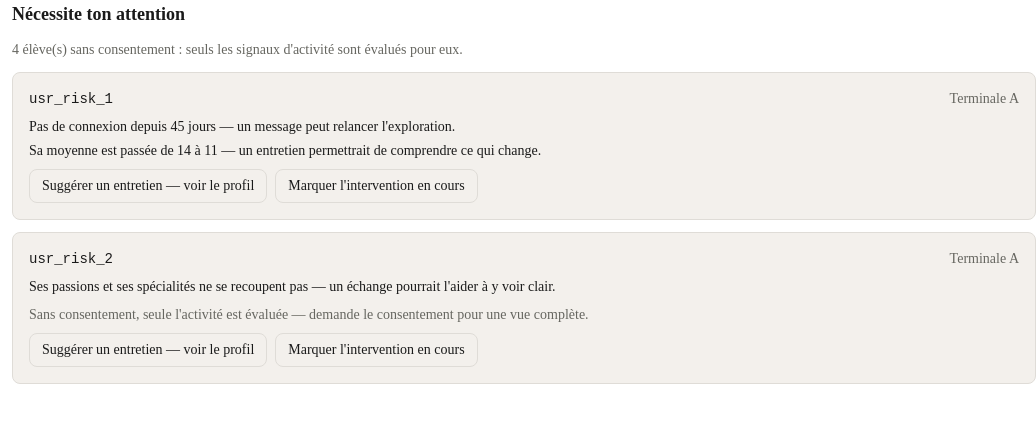
Test: AtRiskPanel › moves a student under 'Intervention en cours' on mark
Click the button "Marquer l'intervention en cours" below "usr_risk_1" at (376, 186), box [275, 169, 478, 203]
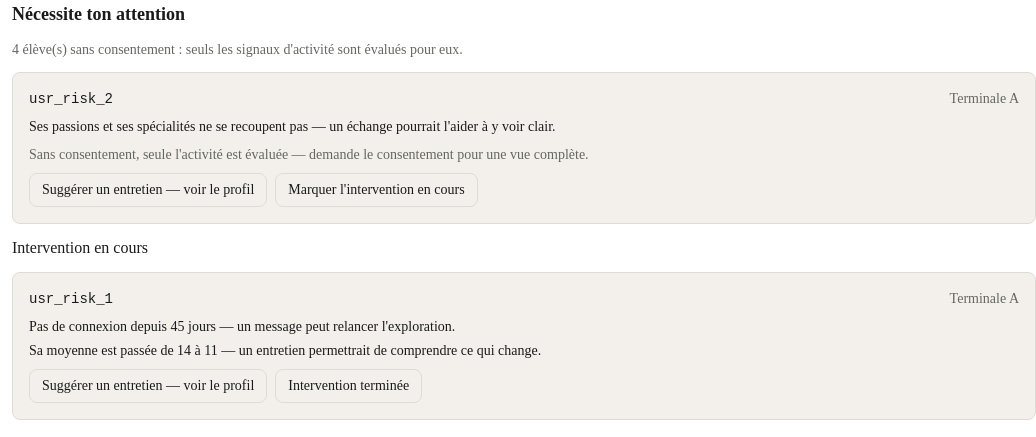
Expected: the heading "Intervention en cours" is shown, [12, 239, 148, 256]
Now the button "Intervention terminée" is shown, box [275, 369, 422, 403]
